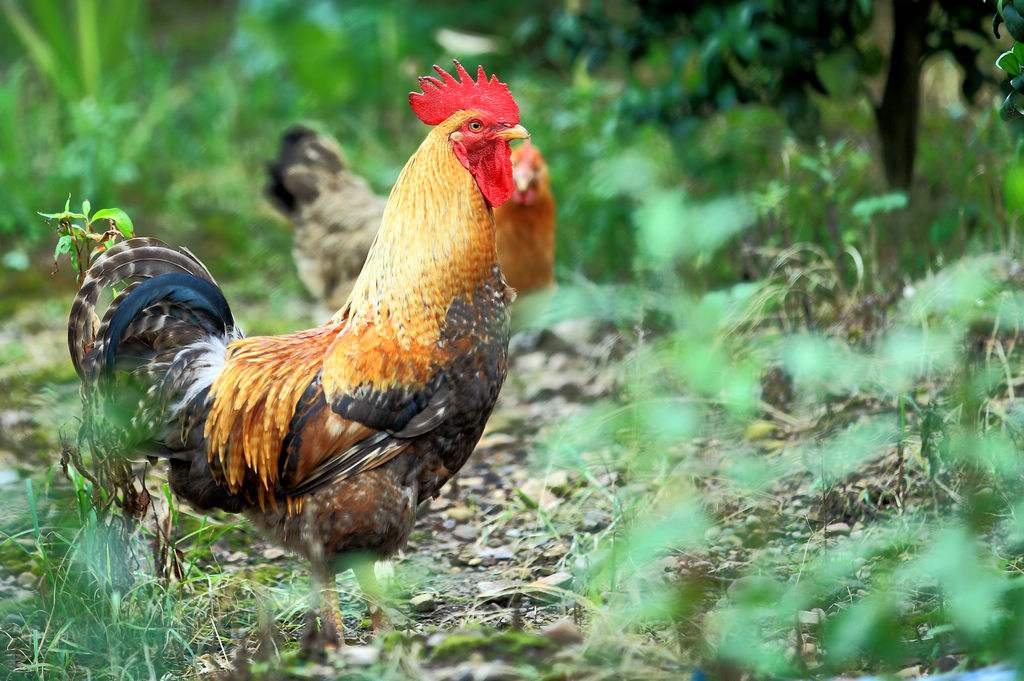chicken: (61, 58, 535, 652), (254, 109, 571, 347)
